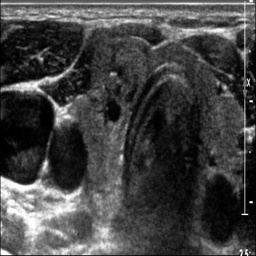mass: (97, 34, 151, 107)
